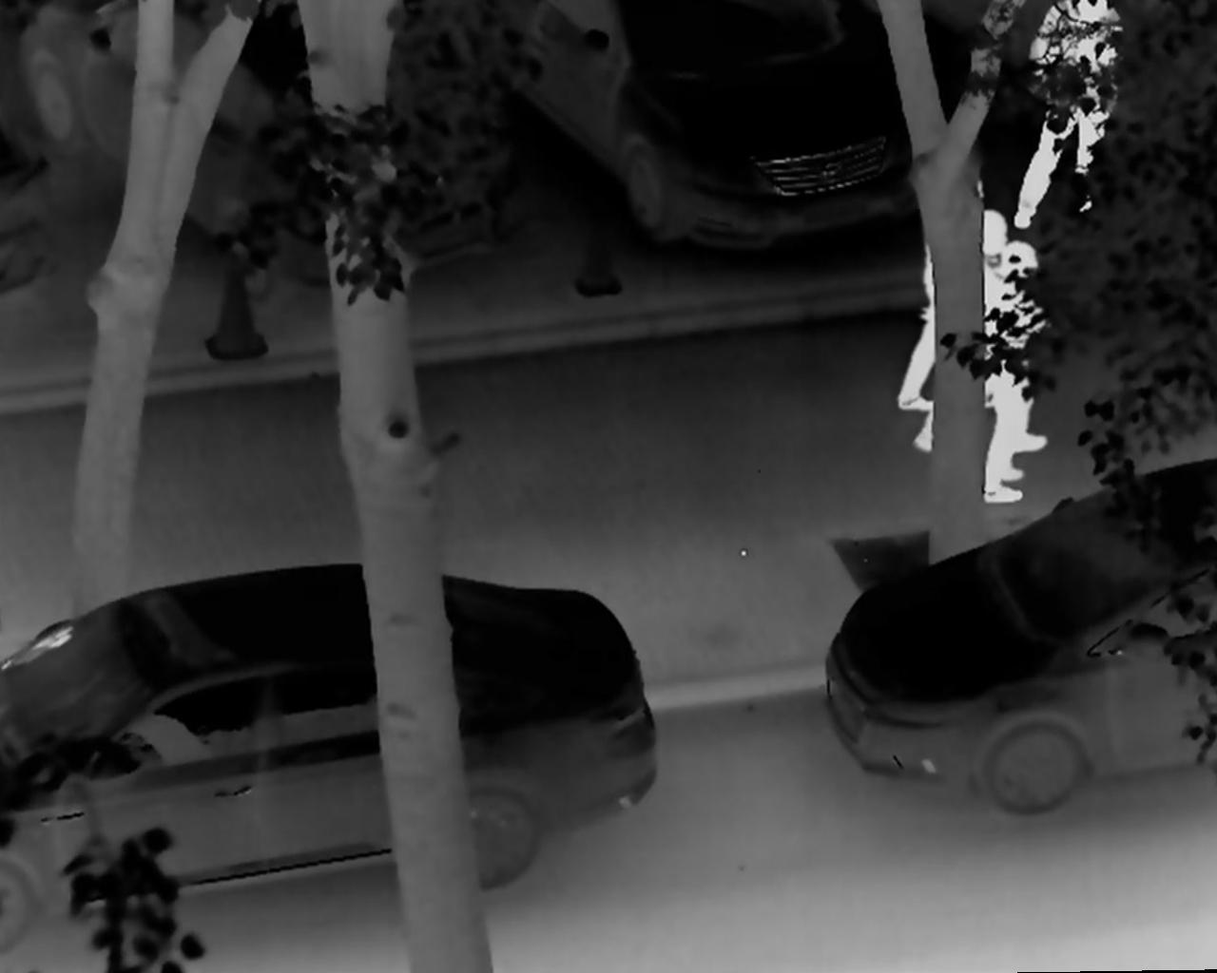person: (914, 208, 1052, 456), (896, 171, 987, 412), (983, 240, 1049, 503)
